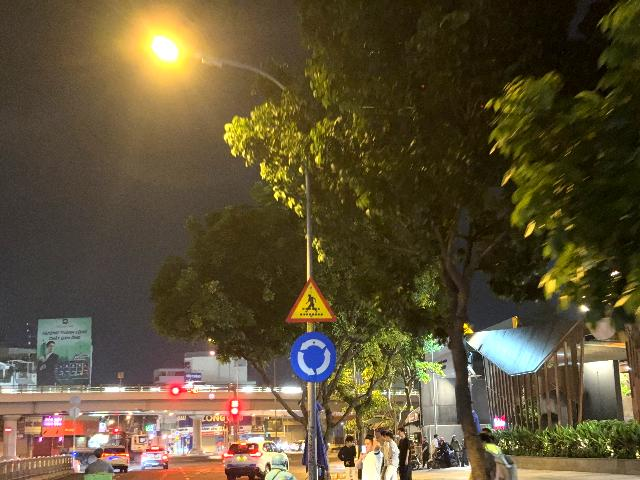duong-nguoi-di-bo-cat-ngang: (285, 277, 337, 323)
noi-giao-nhau-chay-theo-vong-xuyen: (289, 331, 336, 383)
